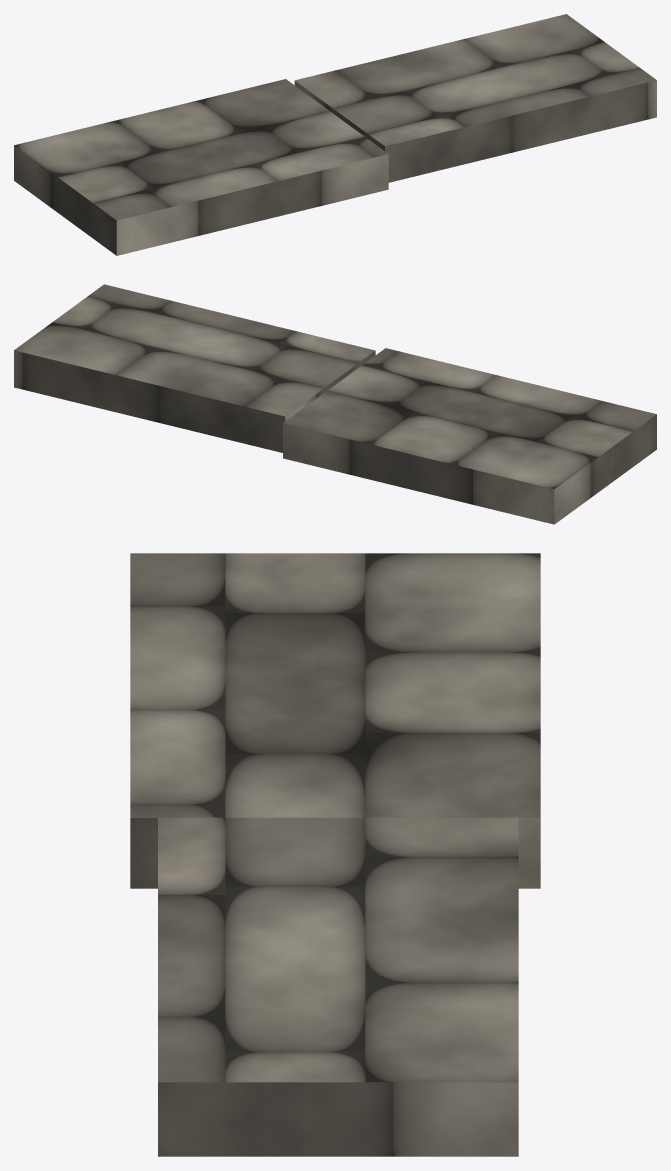
File: Prop_ExteriorBorder_Straight2_LOD2.gltf
3 renders of one model, top to bottom at view 1: azimuth 30°, elevation 25°; view 2: azimuth 150°, elevation 25°; view 3: azimuth 270°, elevation 25°, orthographic. The views are drawn at different scales.
Visible parts, largest first — view 1: Prop_ExteriorBorder_Straight2_LOD2; view 2: Prop_ExteriorBorder_Straight2_LOD2; view 3: Prop_ExteriorBorder_Straight2_LOD2.
Part boxes in pixels (x1,y1,x2,y2): Prop_ExteriorBorder_Straight2_LOD2: [14, 14, 656, 255]; Prop_ExteriorBorder_Straight2_LOD2: [14, 284, 656, 524]; Prop_ExteriorBorder_Straight2_LOD2: [130, 553, 540, 1156].
Size of the model in its own units: 2 by 0.13 by 0.6509.
1 material, 1 textured.
